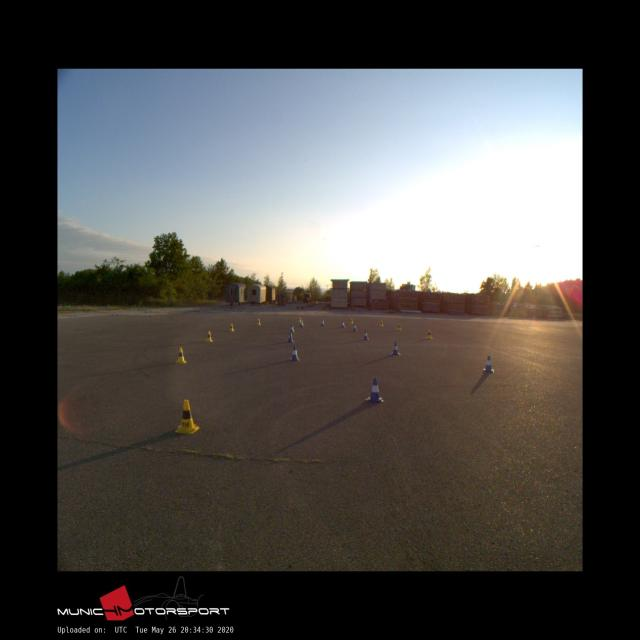blue_cone: (365, 377, 383, 402), (483, 355, 494, 373), (390, 342, 400, 356), (290, 346, 298, 360), (362, 330, 369, 340), (287, 332, 293, 342), (289, 324, 294, 333), (353, 323, 357, 331), (300, 320, 304, 327), (321, 319, 325, 326), (341, 321, 345, 327)
yellow_cone: (175, 399, 199, 433), (175, 347, 186, 363), (205, 330, 212, 342), (427, 329, 432, 338), (396, 324, 402, 331), (229, 324, 234, 332), (257, 318, 261, 326), (379, 320, 384, 326), (298, 316, 301, 322), (350, 317, 353, 323)
